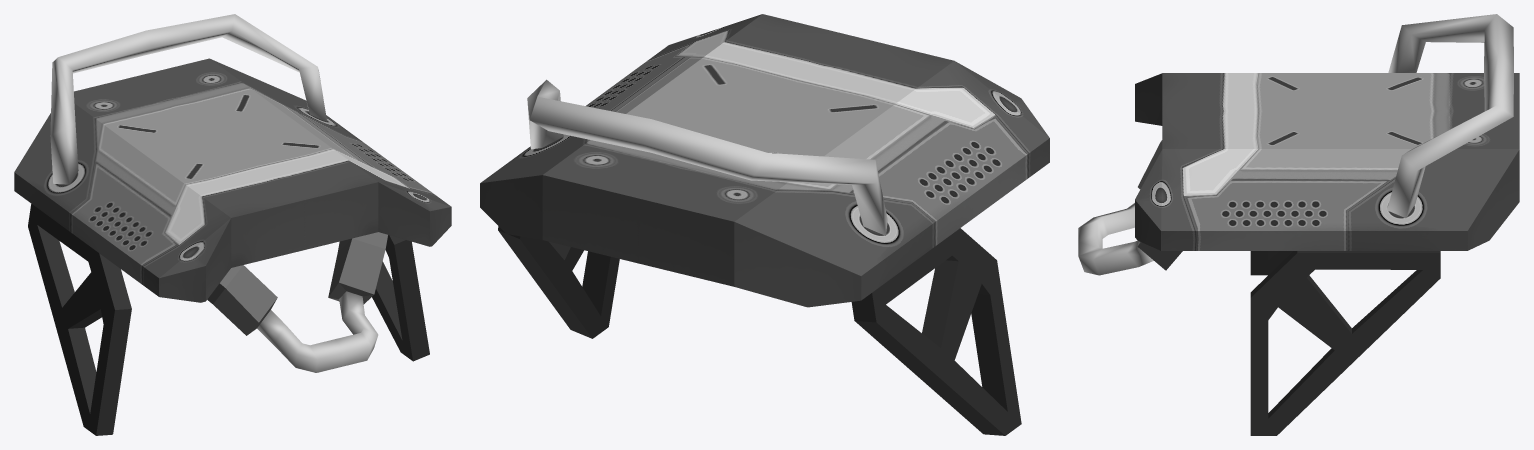
File: shelf-output.glb
The picture shows the model from 3 angles, left to right: view 1: azimuth 30°, elevation 25°; view 2: azimuth 150°, elevation 25°; view 3: azimuth 270°, elevation 25°; orthographic projection. The views are drawn at different scales.
Parts seen in each view (by area): view 1: Plane; view 2: Plane; view 3: Plane.
Boxes of the visible parts, x1,y1,x2,y2 form: Plane: (14, 14, 451, 435); Plane: (480, 14, 1049, 435); Plane: (1078, 14, 1519, 435).
Size of the model in its own units: 8.31 by 6.7 by 9.
1 material, 1 textured.
